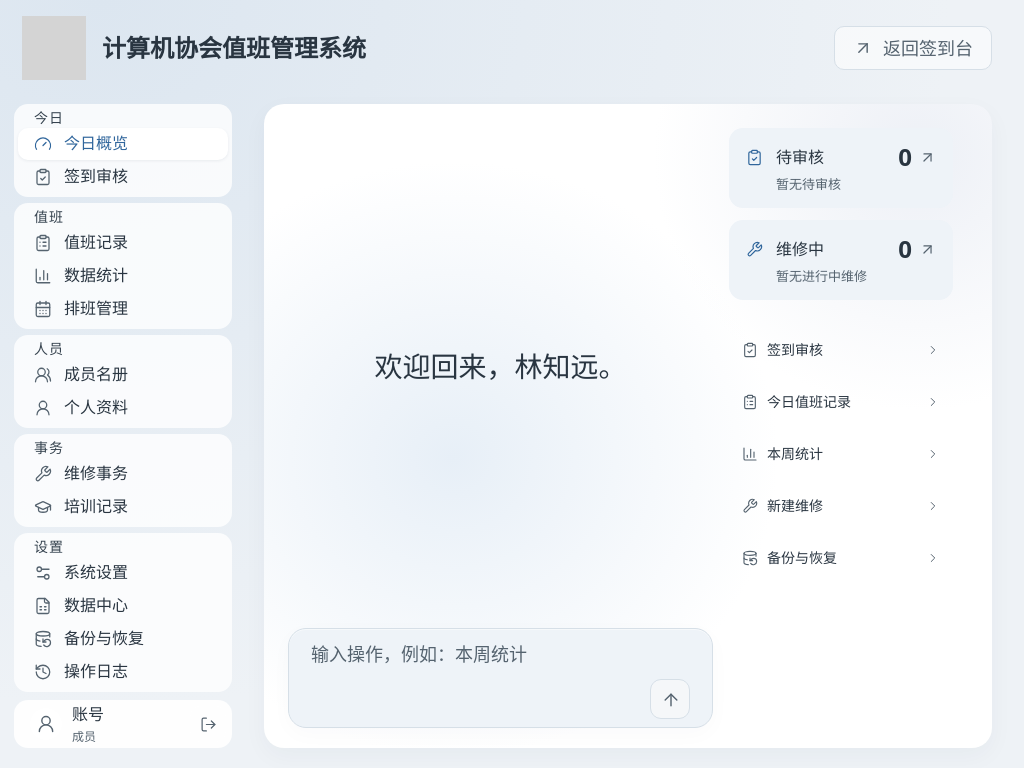
TodayPage request states › completes a command-tree node without executing it
In the dropdown named "查找后台功能或输入命令": point(500, 654) [311,637,690,671], type "/ 查看 "
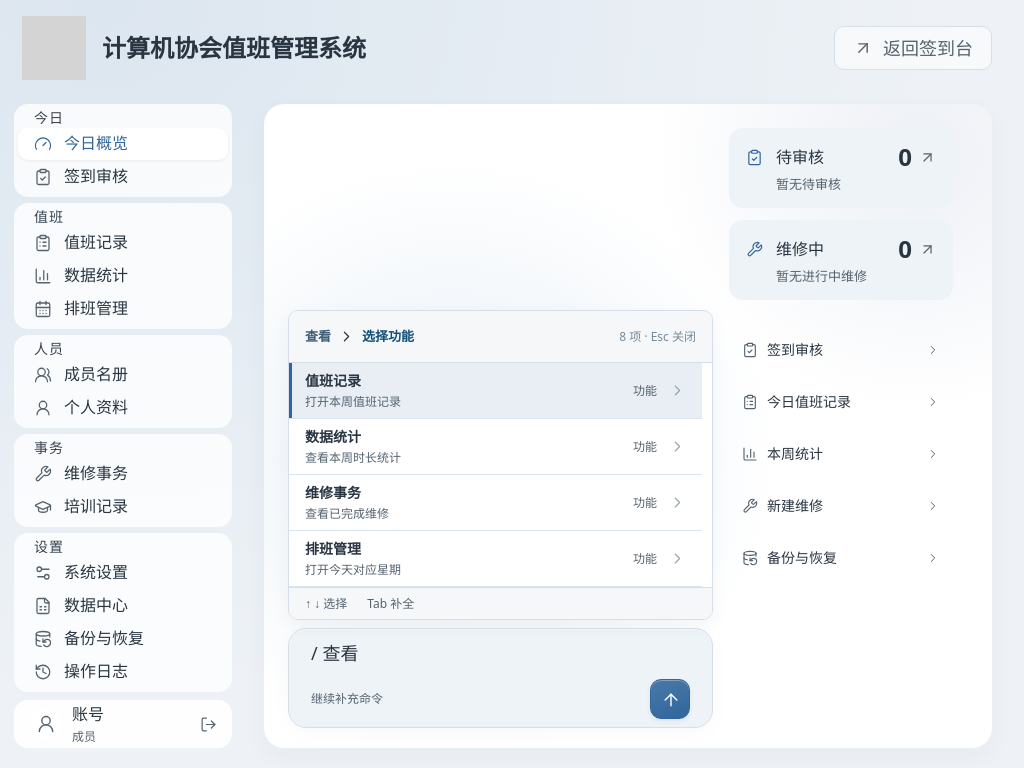
Expected: the option with class "command-suggestion-option" showing "值班记录 打开本周值班记录 功能" is shown
Click the option with class "command-suggestion-option" showing "值班记录 打开本周值班记录 功能": point(333, 380) [289,363,702,419]
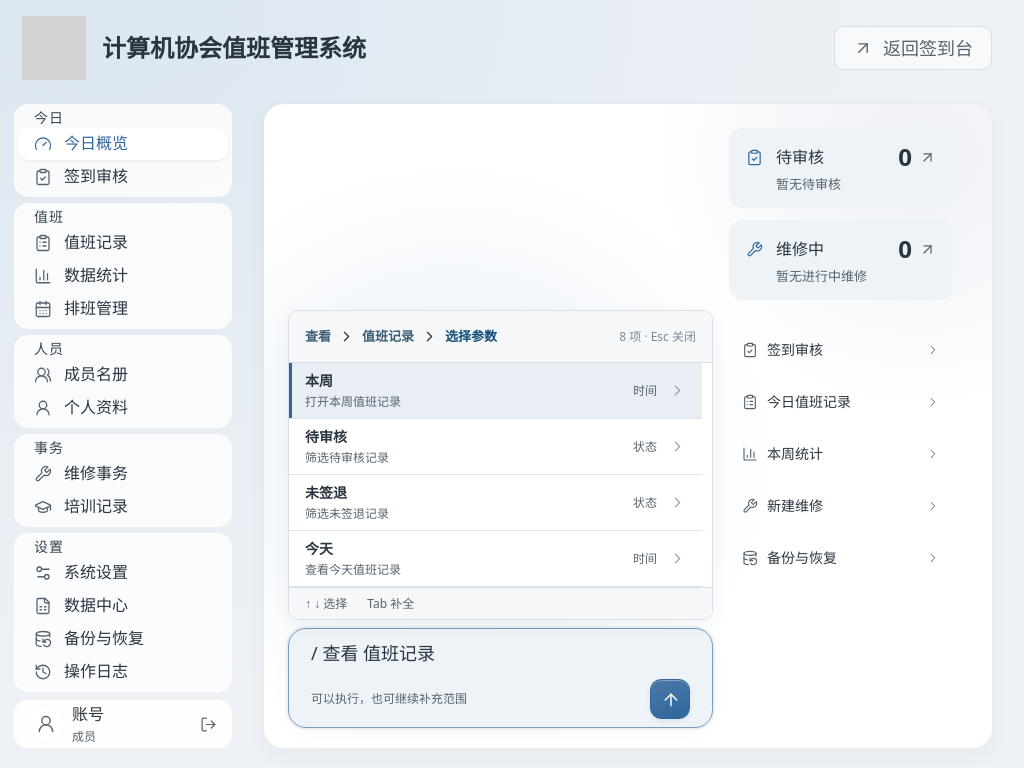
Expected: the dropdown named "查找后台功能或输入命令" holds "/ 查看 值班记录 ", [311,637,690,671]
